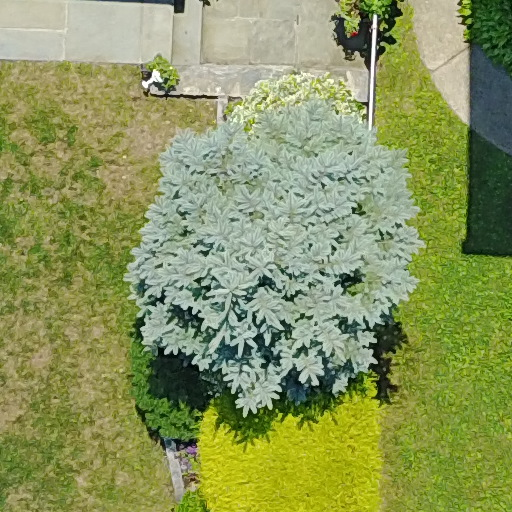flower pot: (127, 50, 191, 107)
